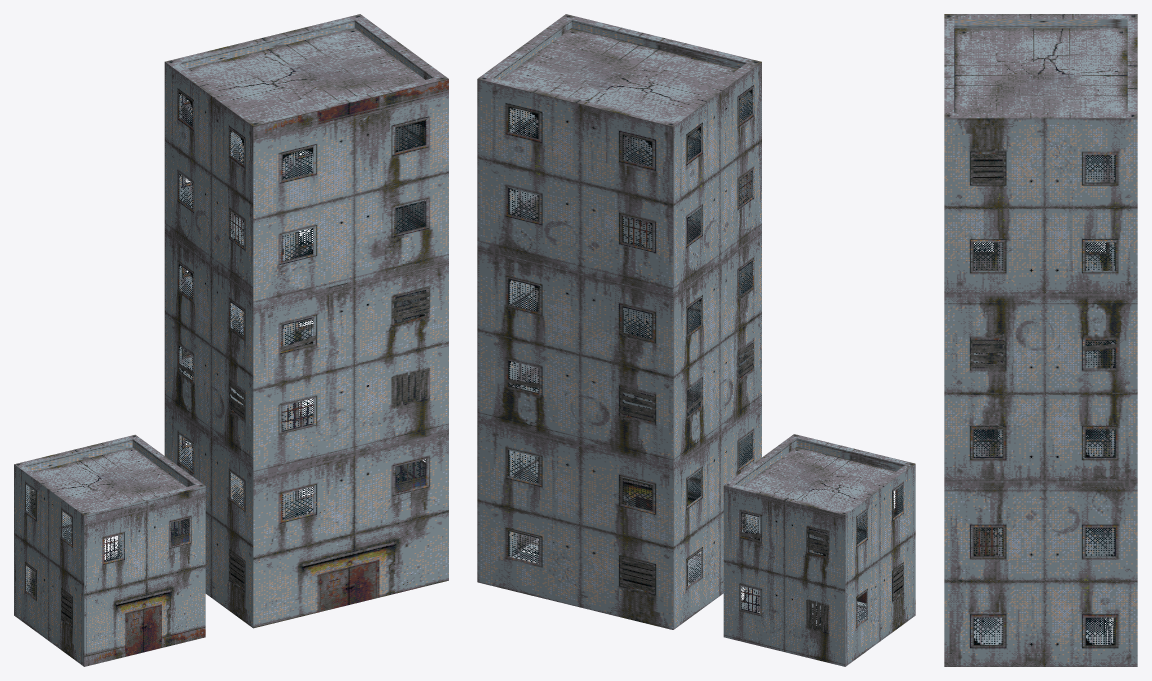
Rendered from Empty Houses.fbx.
The picture shows the model from 3 angles, left to right: view 1: azimuth 30°, elevation 25°; view 2: azimuth 150°, elevation 25°; view 3: azimuth 270°, elevation 25°; orthographic projection. The views are drawn at different scales.
Parts seen in each view (by area): view 1: pCube30, pCube26; view 2: pCube30, pCube26; view 3: pCube30.
Boxes of the visible parts, left/top/right/bottom form: pCube30: left=164, top=14, right=448, bottom=628; pCube26: left=14, top=434, right=205, bottom=666; pCube30: left=477, top=14, right=761, bottom=629; pCube26: left=723, top=434, right=915, bottom=666; pCube30: left=944, top=14, right=1137, bottom=666.
Bounding box in the file's own units: 1769 × 2403 × 760.
1 material, 1 textured.
